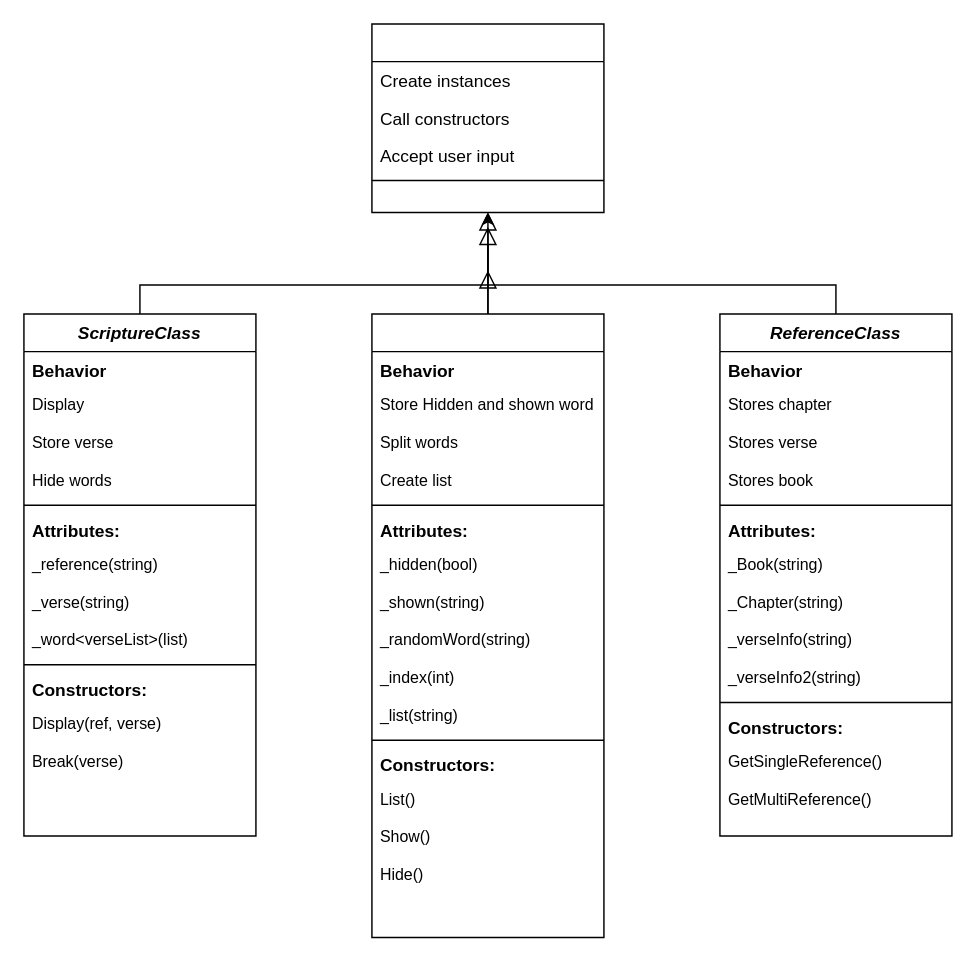
Image size: 976x961. Some labels were removed from this diagram. The box of each missing label's shape, as (x1, y1, x2, y2) in pixels:
MainClass: (370, 22, 604, 212)
WordClass: (370, 312, 604, 937)
